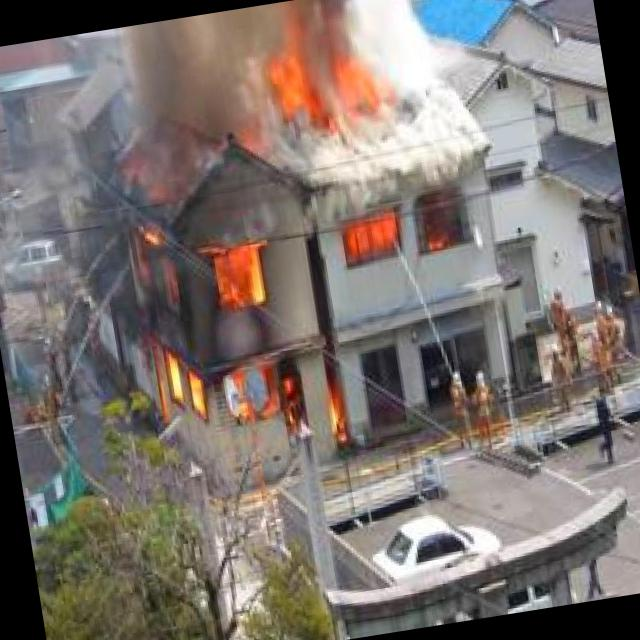Fire: (106, 205, 350, 479), (338, 205, 408, 269)
Smoke: (121, 0, 498, 221)
